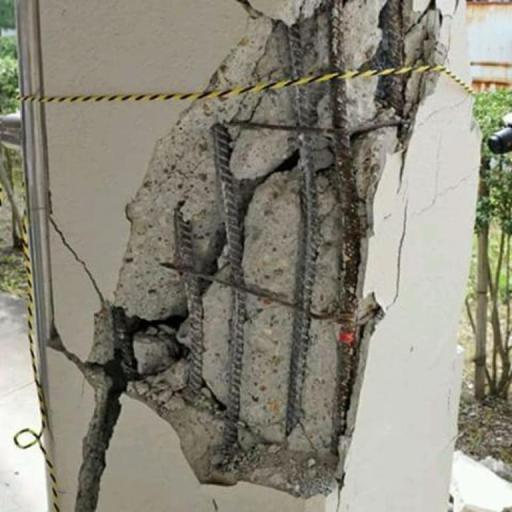spalling: (44, 2, 454, 512), (43, 214, 110, 301), (388, 204, 415, 314)
